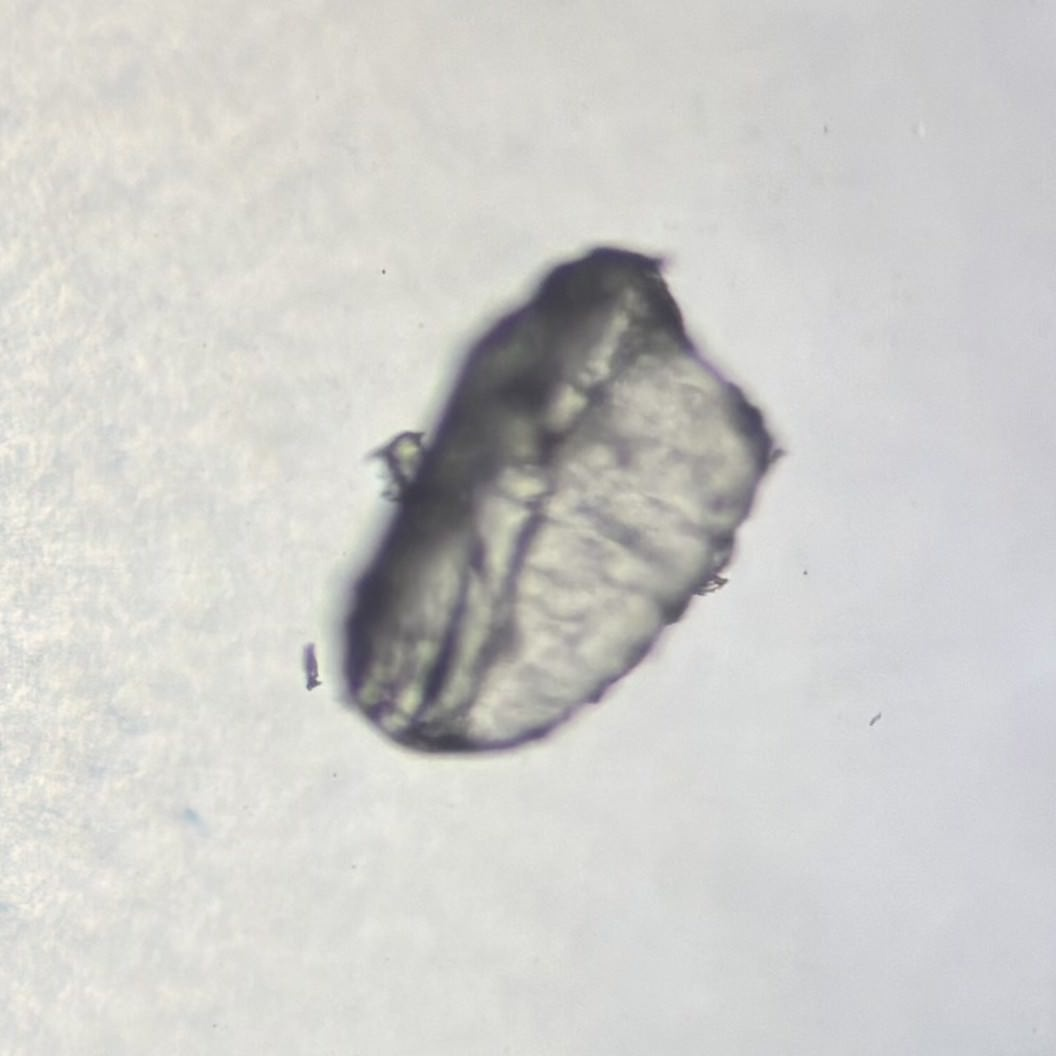microplastic: (302, 245, 787, 759)
